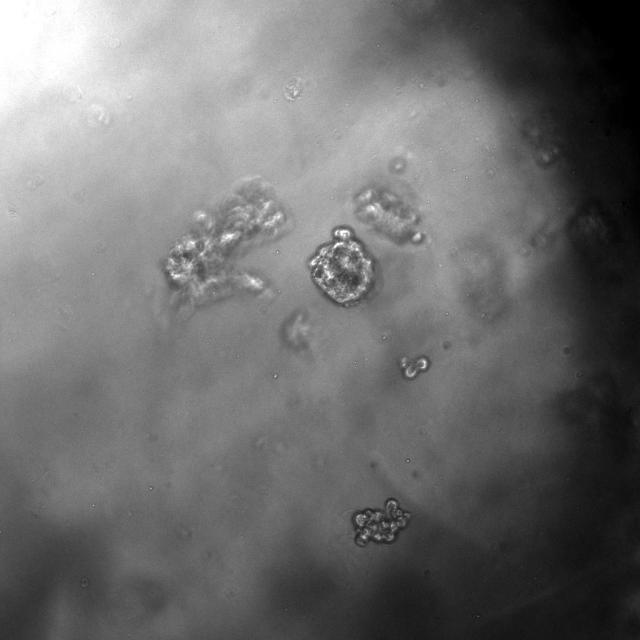organoid: (162, 177, 290, 307), (308, 226, 374, 306), (354, 188, 421, 244), (352, 498, 411, 546), (401, 356, 430, 379)
